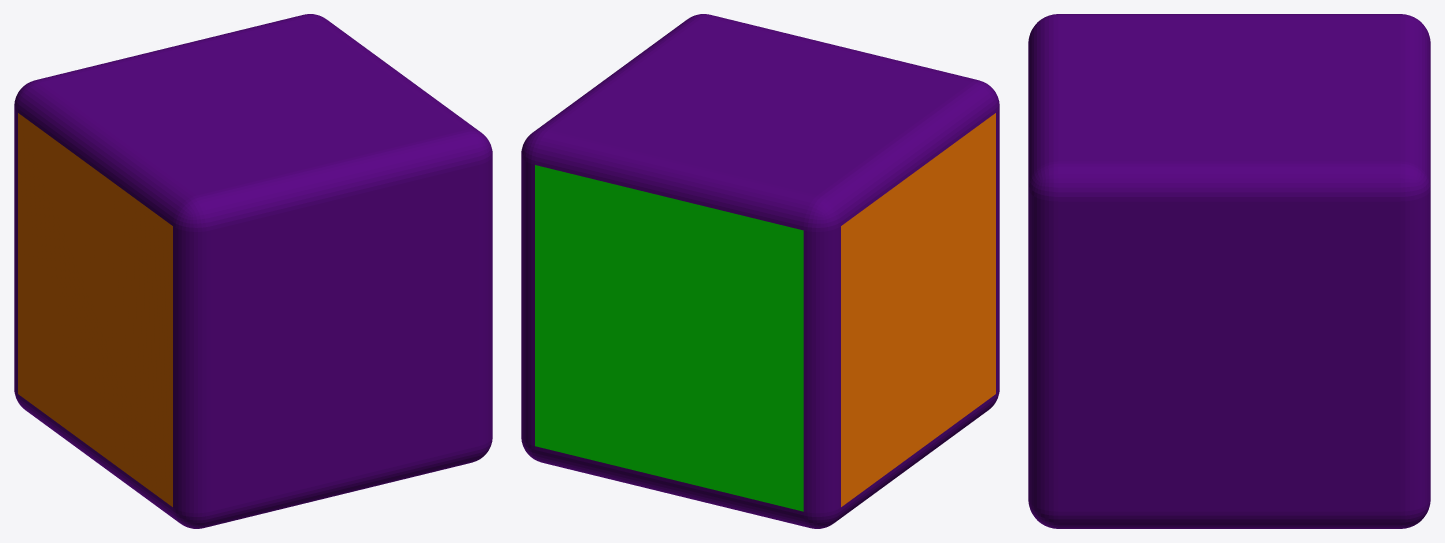
3 views of the same model, side by side, from view 1: azimuth 30°, elevation 25°; view 2: azimuth 150°, elevation 25°; view 3: azimuth 270°, elevation 25° (orthographic). The views are drawn at different scales.
Parts seen in each view (by area): view 1: Cube.013; view 2: Cube.013; view 3: Cube.013.
Boxes of the visible parts, left/top/right/bottom form: Cube.013: left=14, top=14, right=492, bottom=528; Cube.013: left=521, top=14, right=999, bottom=528; Cube.013: left=1028, top=14, right=1430, bottom=528.
Bounding box in the file's own units: 200 × 200 × 200.
